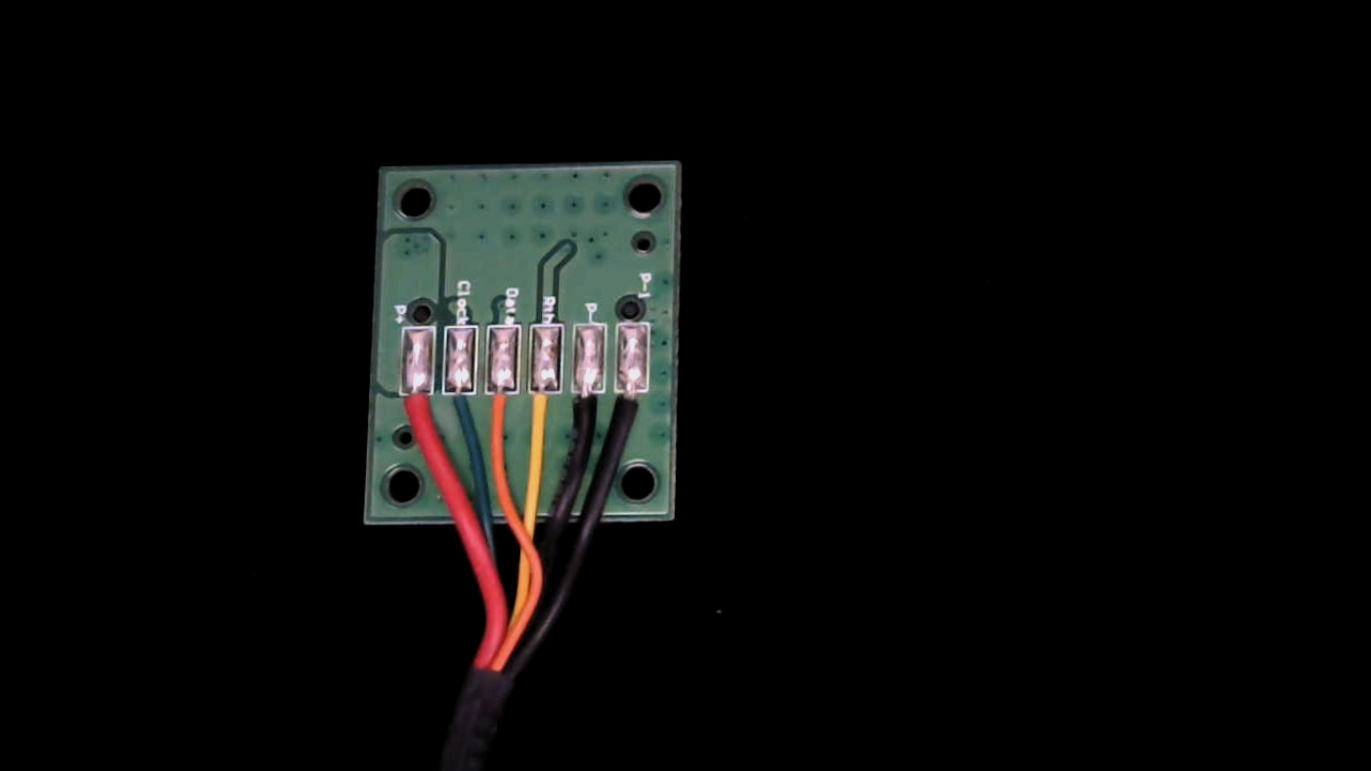Black: (565, 375, 606, 455)
Black1: (611, 374, 650, 447)
Green: (441, 372, 481, 449)
Orange: (484, 373, 522, 452)
Red: (395, 378, 436, 455)
Yellow: (525, 373, 566, 454)
